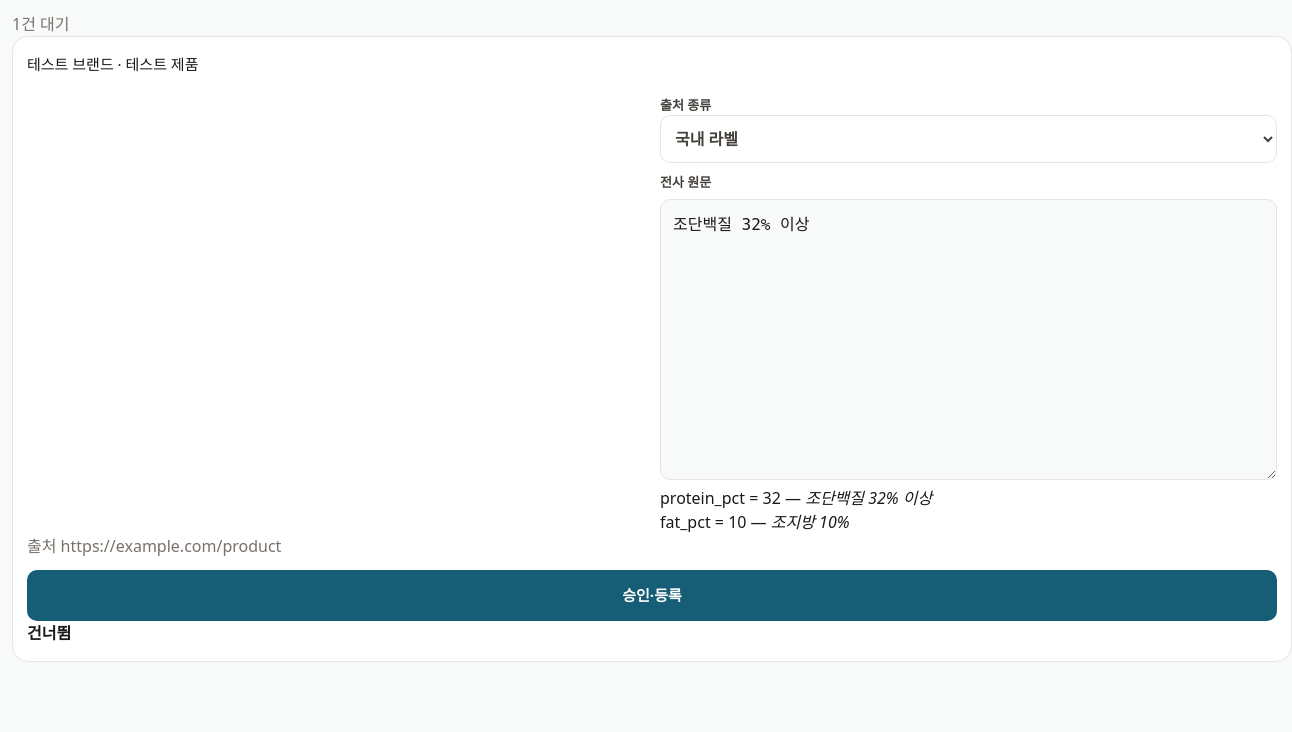
Test: LabelTranscribeClient 승인 실패 › 일부만 적용되면 run은 닫되 몇 건이 빠졌는지 알린다
This screenshot has width=1292, height=732.
Click the button "승인·등록": click(652, 596) left=27, top=570, right=1277, bottom=621
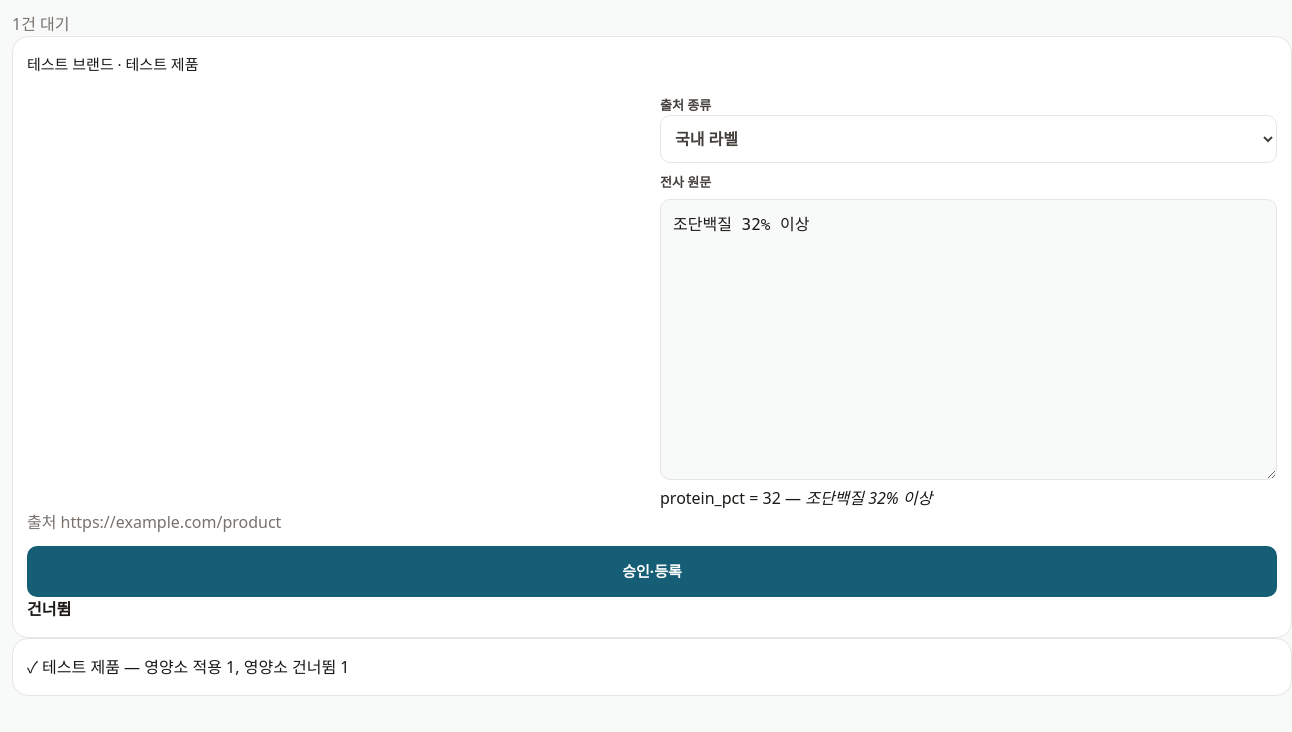
Expected: the message shows "적용 1", left=27, top=656, right=350, bottom=678
